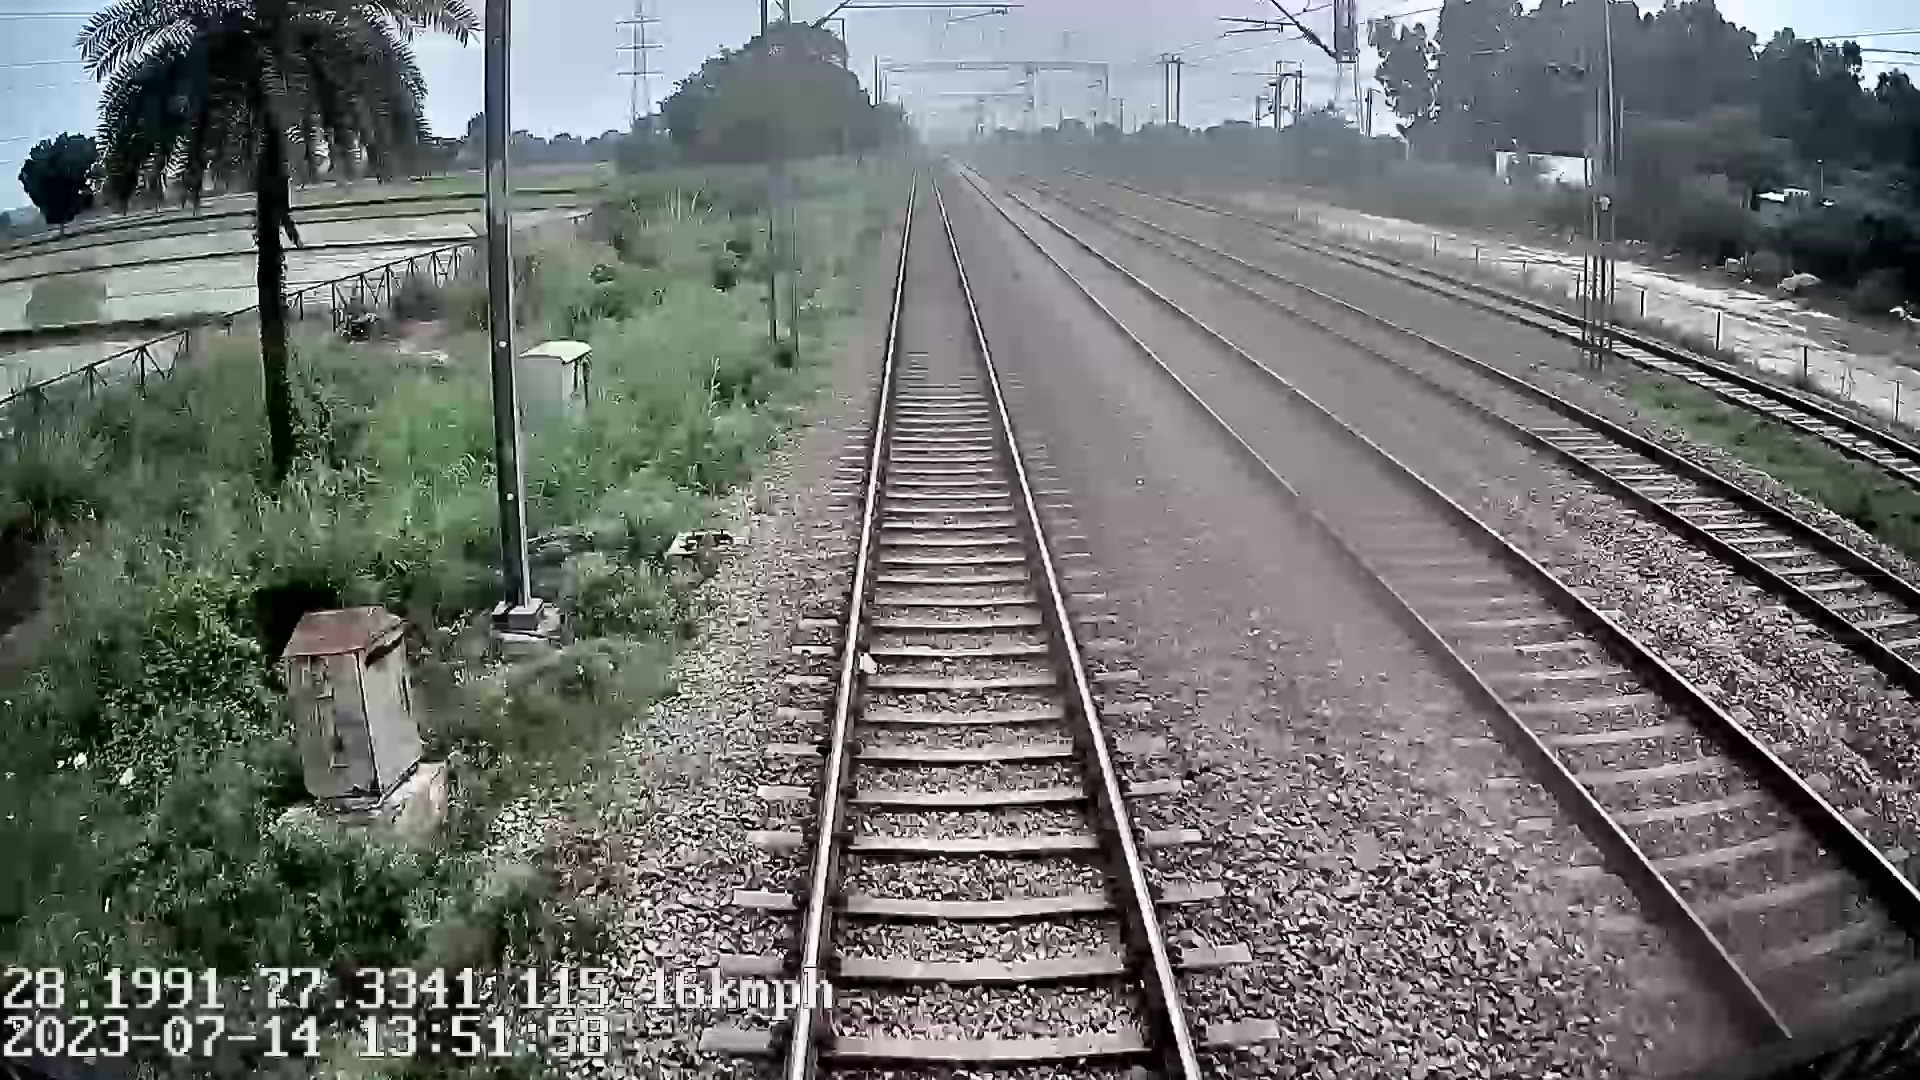track1: (800, 210, 1182, 1051)
track2: (1002, 212, 1913, 984)
track3: (1164, 241, 1919, 649)
track4: (1331, 248, 1913, 475)
